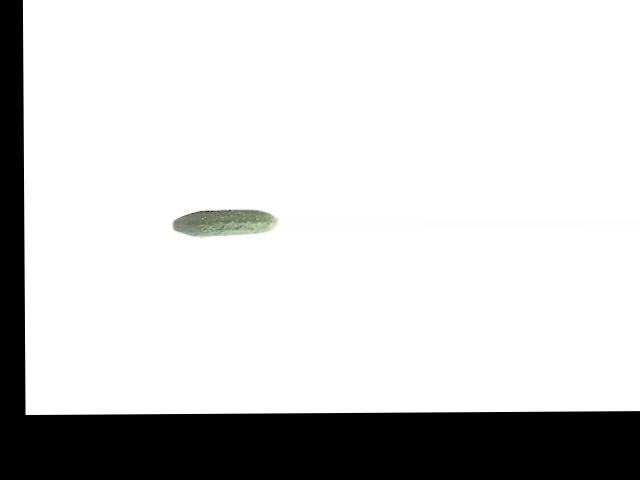cucumber: (171, 209, 277, 236)
